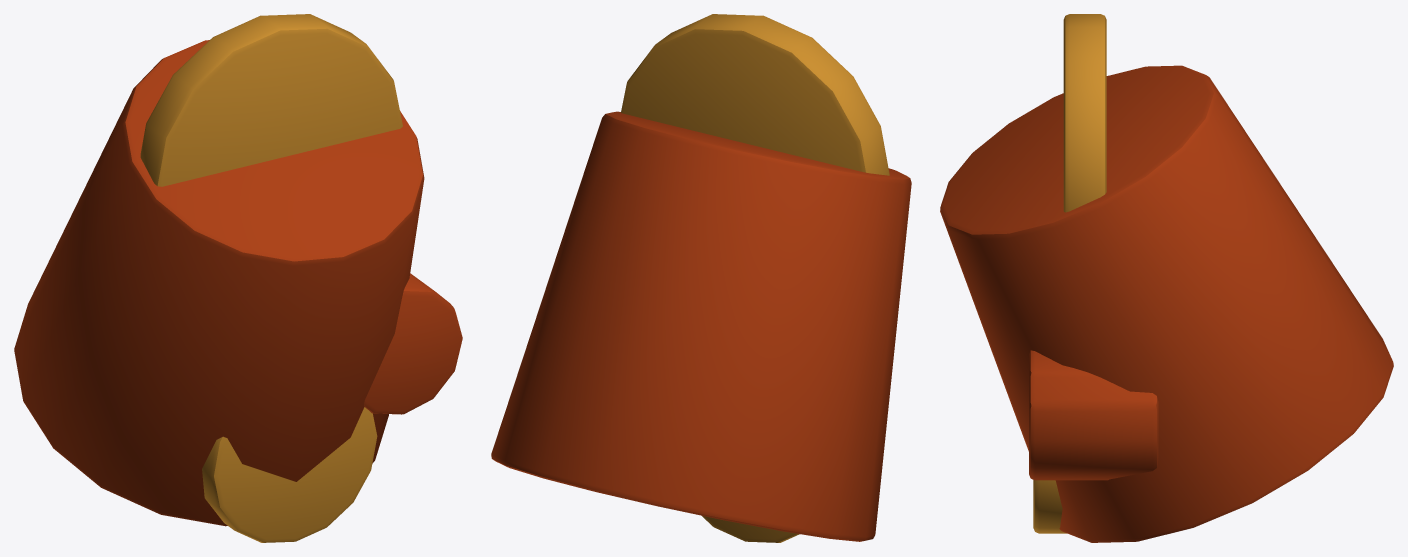
Rendered from MortarA.obj.
3 views of the same model, side by side, from view 1: azimuth 30°, elevation 25°; view 2: azimuth 150°, elevation 25°; view 3: azimuth 270°, elevation 25° (orthographic). The views are drawn at different scales.
Visible parts, largest first — view 1: MortarA; view 2: MortarA; view 3: MortarA.
Boxes of the visible parts, left/top/right/bottom form: MortarA: left=14, top=14, right=462, bottom=542; MortarA: left=491, top=14, right=911, bottom=542; MortarA: left=940, top=14, right=1393, bottom=542.
Bounding box in the file's own units: 0.8718 × 1.27 × 1.05.
